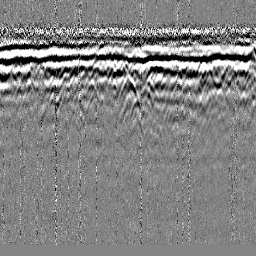cavity: (117, 73, 140, 105)
